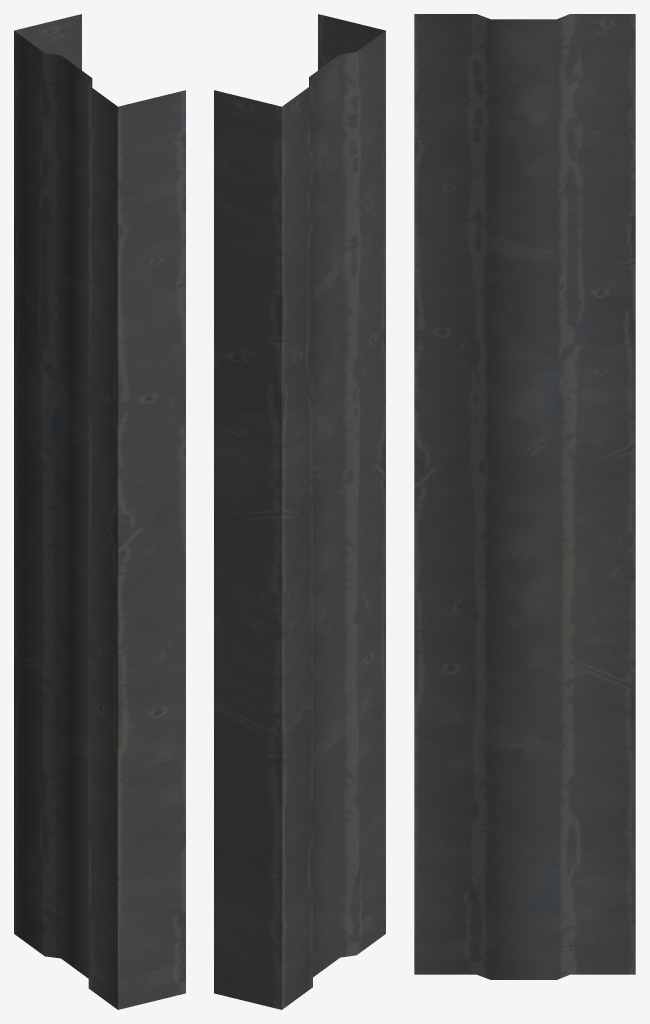
The model's file is cover01.fbx.
3 renders of one model, left to right at view 1: azimuth 30°, elevation 25°; view 2: azimuth 150°, elevation 25°; view 3: azimuth 270°, elevation 25°, orthographic. The views are drawn at different scales.
Parts seen in each view (by area): view 1: Box038; view 2: Box038; view 3: Box038.
Boxes of the visible parts, <box> form: Box038: <box>14,14,185,1009</box>; Box038: <box>214,14,385,1009</box>; Box038: <box>414,14,635,979</box>.
Bounding box in the file's own units: 17.36 × 221 × 46.03.
